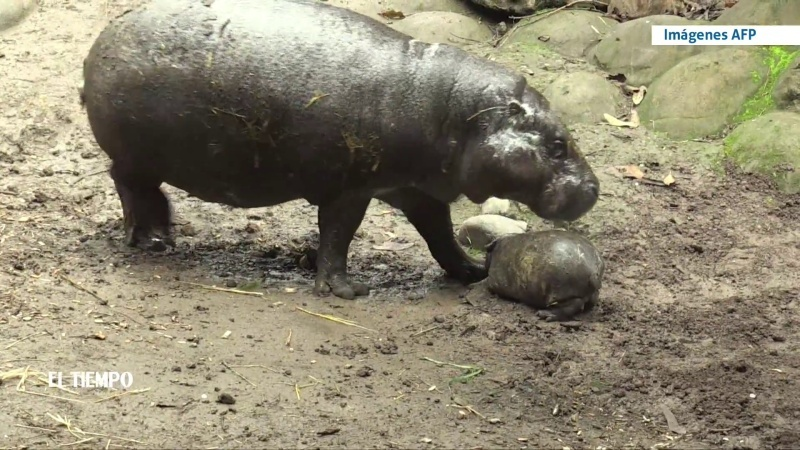hipopotamo: (76, 2, 601, 308), (467, 217, 626, 340)
